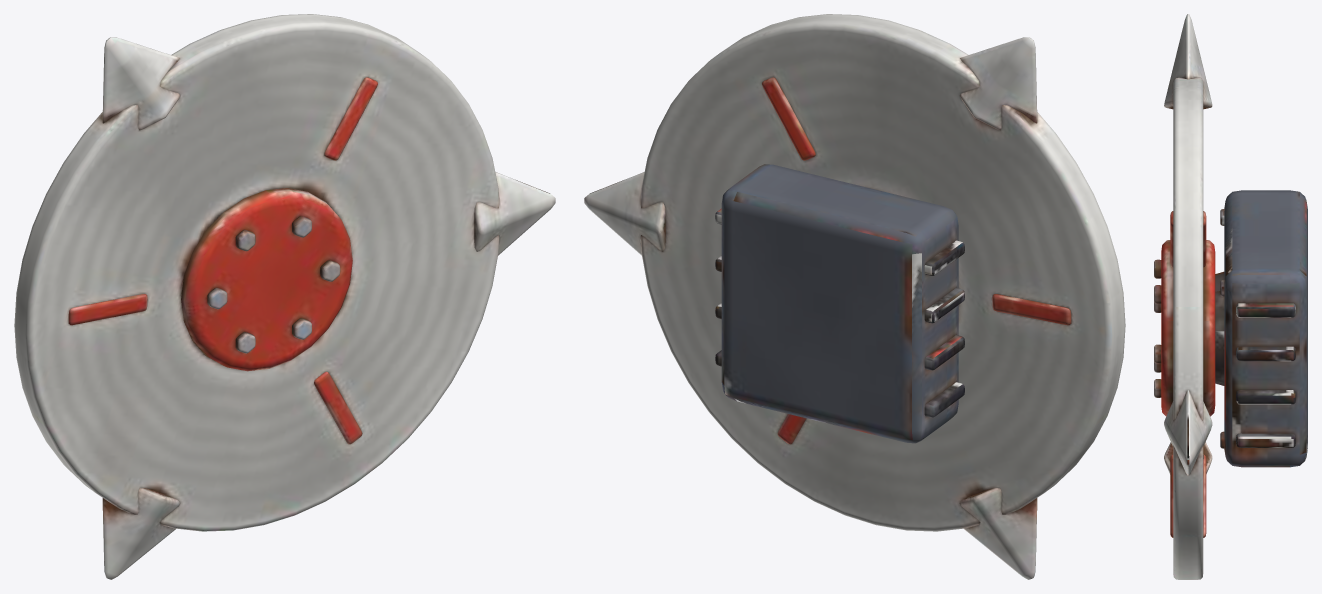
Rendered from spinner.glb.
3 renders of one model, left to right at view 1: azimuth 30°, elevation 25°; view 2: azimuth 150°, elevation 25°; view 3: azimuth 270°, elevation 25°, orthographic. The views are drawn at different scales.
Visible parts, largest first — view 1: spin; view 2: spin, body; view 3: body, spin.
Part boxes in pixels (left/top/right/bottom): spin: left=14, top=14, right=555, bottom=579; spin: left=584, top=14, right=1125, bottom=579; body: left=715, top=164, right=964, bottom=443; body: left=1215, top=190, right=1307, bottom=467; spin: left=1154, top=14, right=1215, bottom=579.
Bounding box in the file's own units: 0.9476 × 0.9183 × 0.2572.
Materials: 1 (1 with a texture image).
